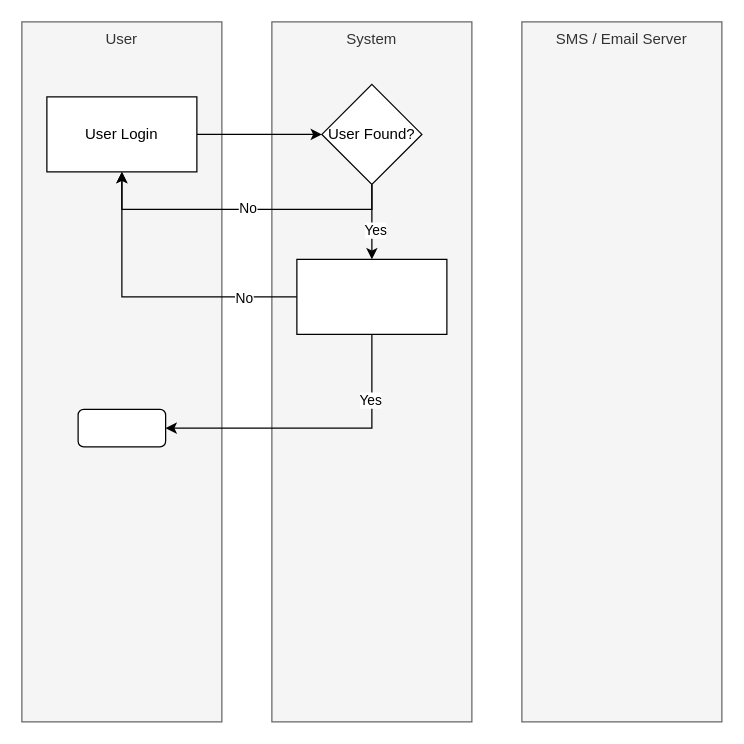
The diagram is 744 pixels wide and 744 high, and some of its shapes have lost their labels. Here are the shapes that lost their labels. From the top down, the centre of each, then its label:
the point at 371,296: Authenticate successful?
the point at 121,427: END
